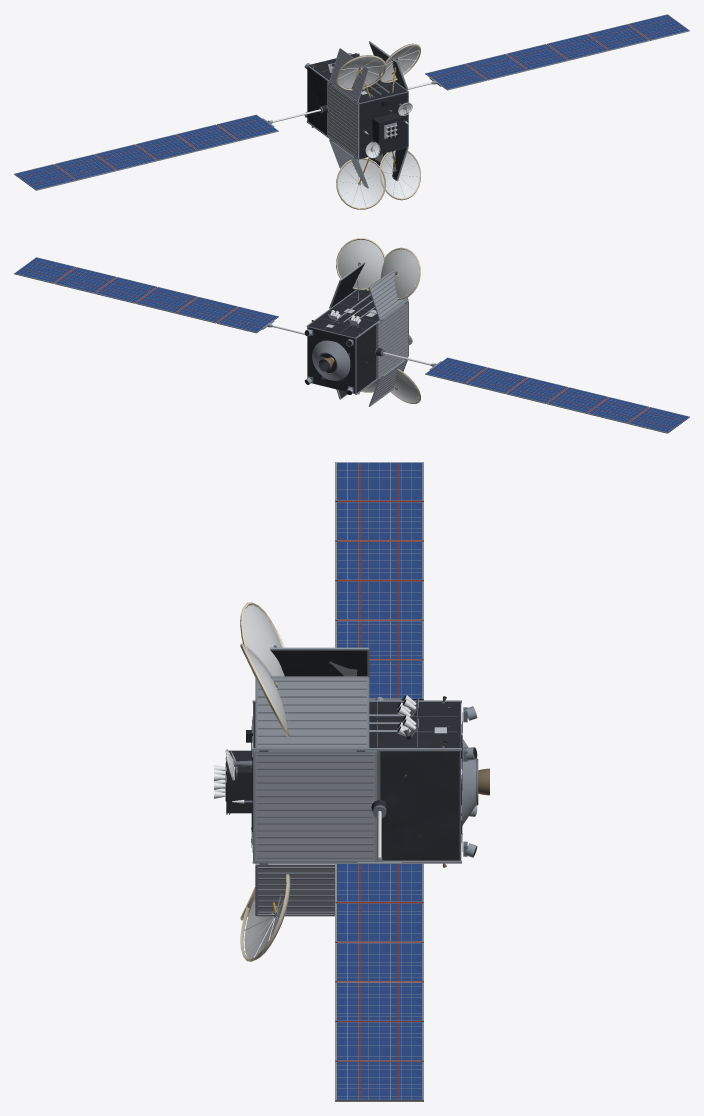
File: bus-boeing-702.glb
3 renders of one model, top to bottom at view 1: azimuth 30°, elevation 25°; view 2: azimuth 150°, elevation 25°; view 3: azimuth 270°, elevation 25°, orthographic. The views are drawn at different scales.
Visible parts, largest first — view 1: body, solar-panel, foil; view 2: body, solar-panel, foil; view 3: body, solar-panel, foil.
Part boxes in pixels (x1,y1,x2,y2): body: [14, 14, 689, 207]; solar-panel: [15, 14, 688, 189]; foil: [307, 43, 420, 209]; body: [14, 239, 689, 433]; solar-panel: [15, 257, 688, 432]; foil: [307, 238, 420, 403]; body: [214, 462, 489, 1101]; solar-panel: [337, 462, 422, 1099]; foil: [225, 602, 462, 961].
Size of the model in its own units: 40.42 by 9.11 by 7.38.
